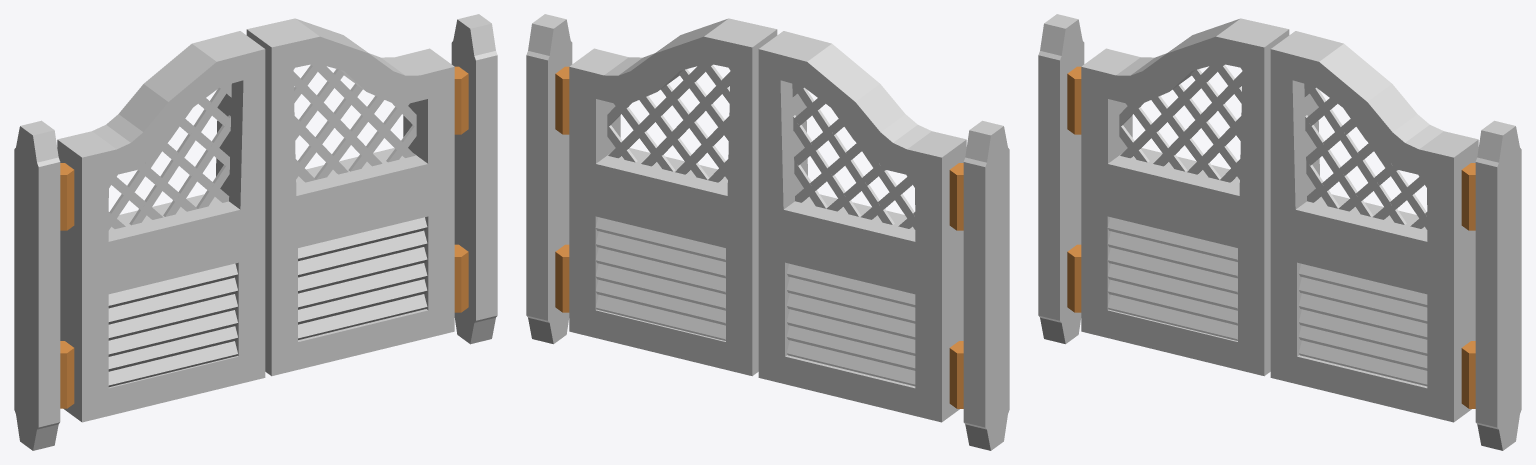
The model's file is SwingingDoors.fbx.
3 views of the same model, side by side, from view 1: azimuth 30°, elevation 25°; view 2: azimuth 150°, elevation 25°; view 3: azimuth 330°, elevation 25° (orthographic).
Visible parts, largest first — view 1: Cube.057, Cube.053, Cube.056; view 2: Cube.057, Cube.053, Cube.056; view 3: Cube.053, Cube.057, Cube.056.
Boxes of the visible parts, bbox=[...] form: Cube.057: bbox=[57, 31, 265, 422]; Cube.053: bbox=[246, 18, 454, 376]; Cube.056: bbox=[14, 14, 497, 450]; Cube.057: bbox=[758, 31, 966, 422]; Cube.053: bbox=[569, 18, 777, 376]; Cube.056: bbox=[526, 14, 1009, 450]; Cube.053: bbox=[1270, 31, 1478, 422]; Cube.057: bbox=[1081, 18, 1289, 376]; Cube.056: bbox=[1038, 14, 1521, 450].
Bounding box in the file's own units: 264 × 193 × 24.8.
